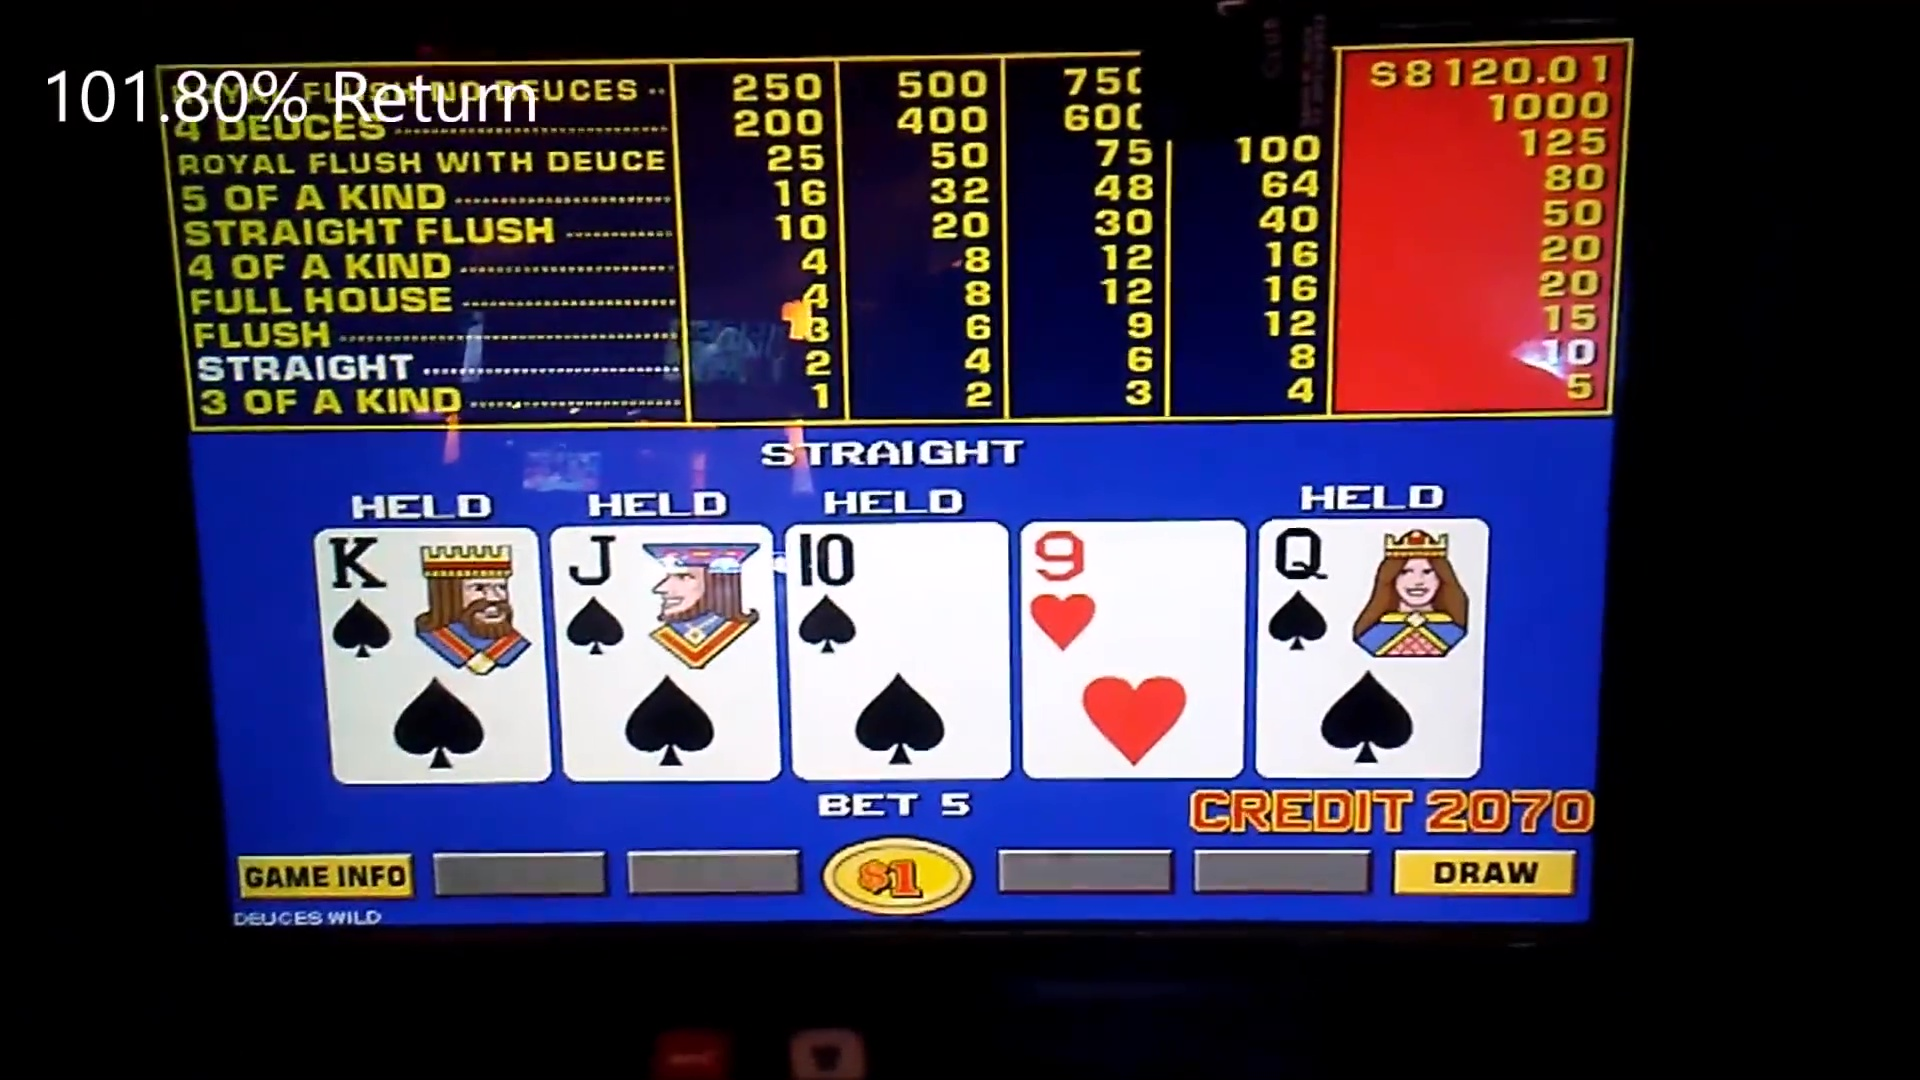H9: (1023, 524, 1250, 650)
SJ: (555, 527, 775, 653)
SK: (319, 531, 543, 655)
SQ: (1261, 520, 1481, 650)
ST: (789, 524, 1005, 650)
